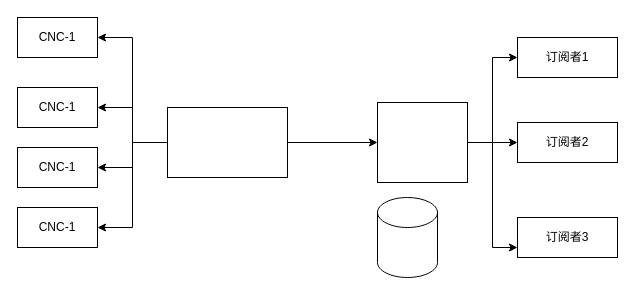
The diagram is 635 pixels wide and 295 high, and some of its shapes have lost their labels. Each missing label, with the centre of its shape:
"MQTT服务器" goes at point (422, 142).
"SCACD 数据采集" goes at point (227, 142).
